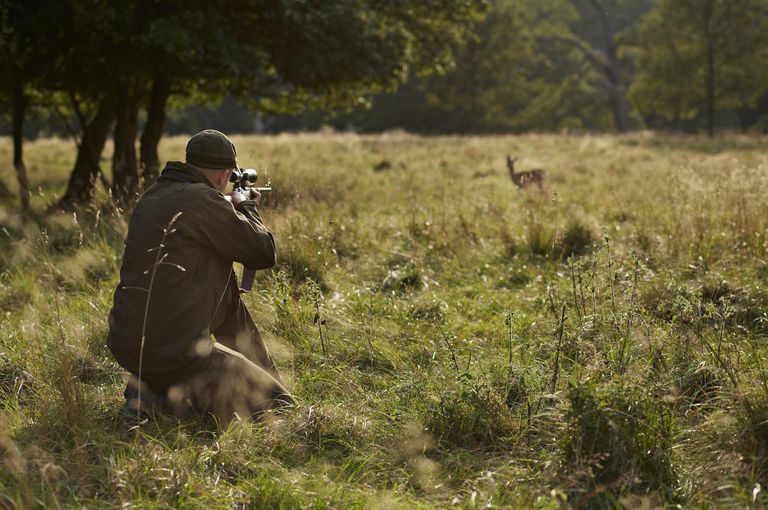Gun: (222, 165, 288, 201)
